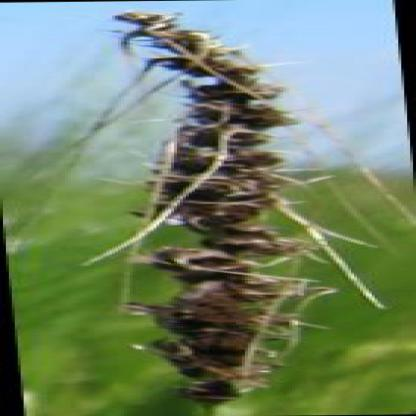Wheat Smut: (156, 342, 263, 361), (158, 176, 274, 191), (165, 193, 266, 208), (188, 323, 265, 340), (170, 262, 256, 277), (171, 160, 262, 174), (176, 126, 255, 140), (198, 108, 275, 122), (185, 281, 282, 292), (183, 144, 258, 158), (190, 308, 272, 320), (186, 364, 252, 378), (192, 88, 240, 107), (183, 294, 259, 306), (163, 210, 231, 222), (189, 382, 236, 399), (183, 61, 252, 72), (163, 249, 227, 260), (158, 36, 205, 50), (200, 225, 262, 234), (125, 12, 167, 22), (215, 74, 249, 86), (166, 309, 183, 332), (252, 238, 290, 247), (211, 236, 244, 246), (239, 250, 292, 255), (132, 302, 158, 311), (140, 25, 168, 33), (195, 53, 230, 59), (249, 88, 275, 96), (152, 56, 183, 62), (267, 156, 281, 164)
